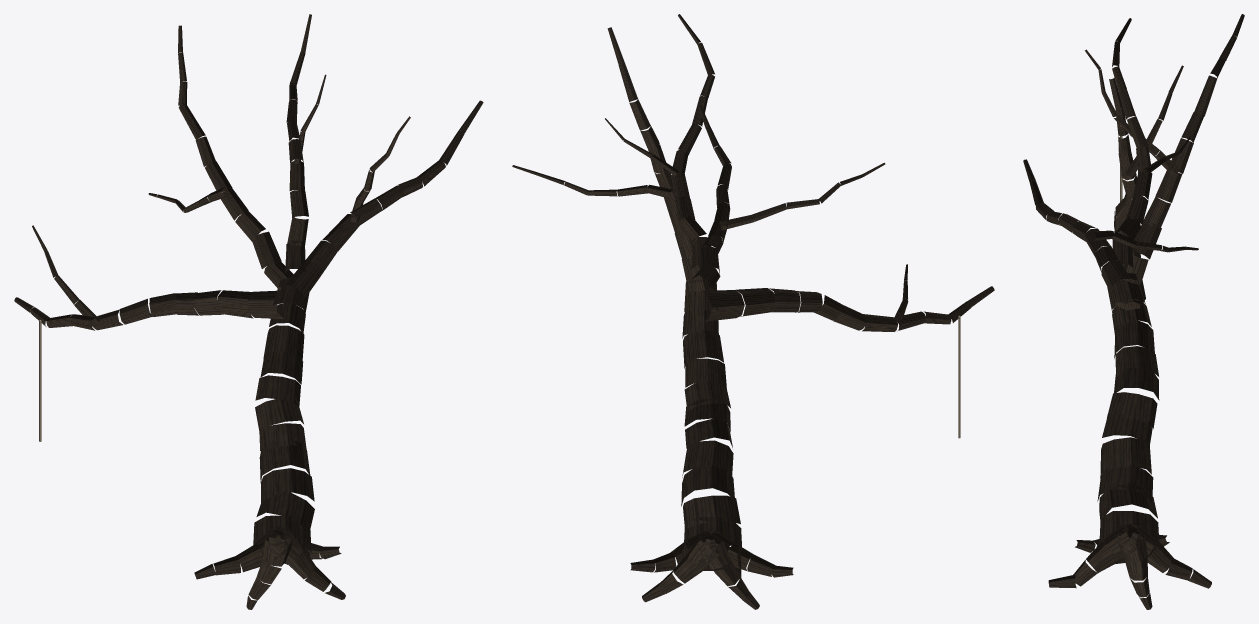
File: mn_swingtree.glb
The picture shows the model from 3 angles, left to right: view 1: azimuth 30°, elevation 25°; view 2: azimuth 150°, elevation 25°; view 3: azimuth 270°, elevation 25°; orthographic projection. The views are drawn at different scales.
Visible parts, largest first — view 1: mn_swingtree; view 2: mn_swingtree; view 3: mn_swingtree.
Boxes of the visible parts, <box> form: mn_swingtree: <box>14,14,483,609</box>; mn_swingtree: <box>512,14,994,609</box>; mn_swingtree: <box>1023,14,1244,609</box>.
Bounding box in the file's own units: 6.93 × 8.44 × 2.95.
Materials: 2 (1 with a texture image).
